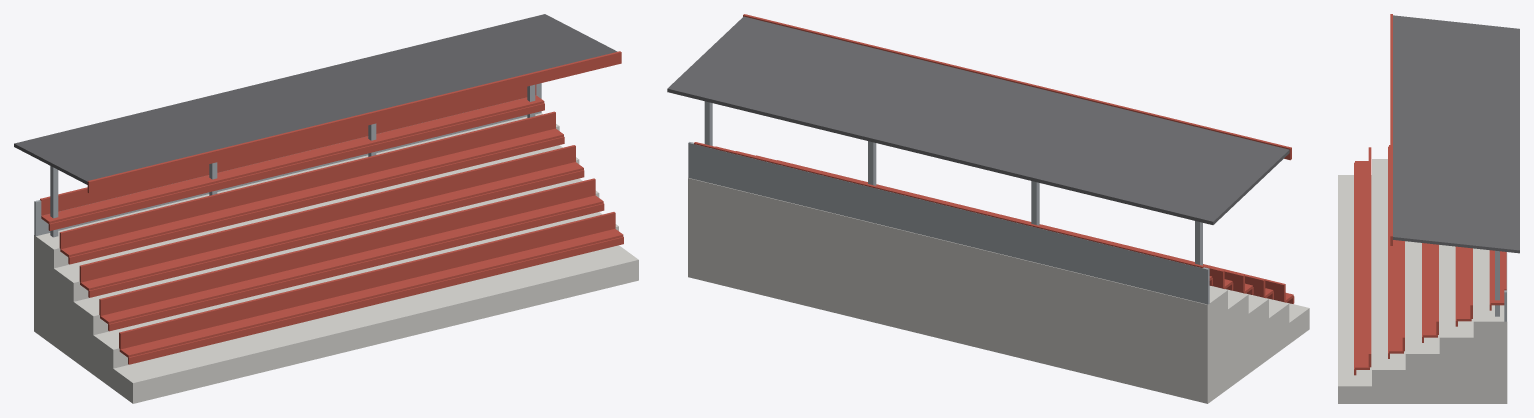
Rendered from bleacher.glb.
3 renders of one model, left to right at view 1: azimuth 30°, elevation 25°; view 2: azimuth 150°, elevation 25°; view 3: azimuth 270°, elevation 25°, orthographic. The views are drawn at different scales.
Parts seen in each view (by area): view 1: bleacher_seats0316, bleacher_tiers0316, bleacher_roof0316, bleacher_frame0316; view 2: bleacher_tiers0316, bleacher_roof0316, bleacher_frame0316, bleacher_seats0316; view 3: bleacher_roof0316, bleacher_tiers0316, bleacher_seats0316, bleacher_frame0316.
Boxes of the visible parts, x1,y1,x2,y2 form: bleacher_seats0316: [40, 51, 623, 364]; bleacher_tiers0316: [34, 113, 638, 403]; bleacher_roof0316: [14, 14, 617, 184]; bleacher_frame0316: [34, 83, 541, 237]; bleacher_tiers0316: [688, 178, 1309, 403]; bleacher_roof0316: [667, 16, 1289, 224]; bleacher_frame0316: [688, 101, 1209, 304]; bleacher_seats0316: [694, 14, 1294, 303]; bleacher_roof0316: [1393, 15, 1519, 253]; bleacher_tiers0316: [1338, 159, 1507, 403]; bleacher_seats0316: [1354, 14, 1506, 375]; bleacher_frame0316: [1495, 250, 1506, 321].
Bounding box in the file's own units: 14.74 × 5.36 × 5.1.
